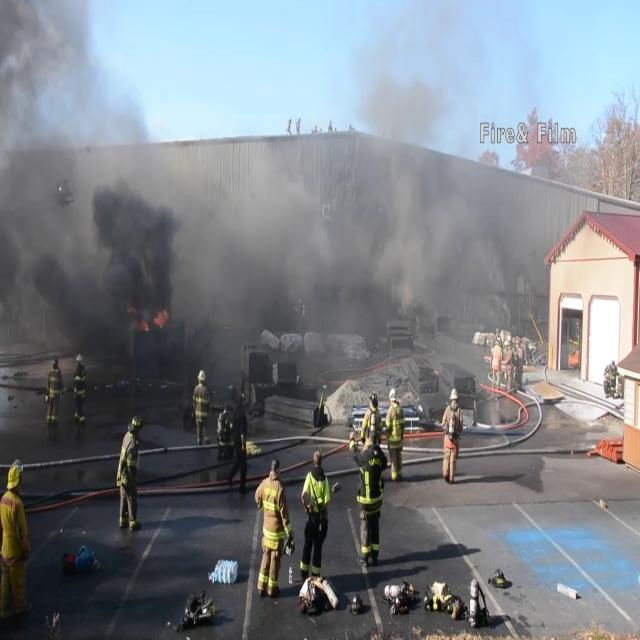Smoke: (0, 37, 544, 383)
